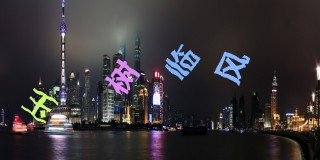临: (162, 42, 202, 82)
树: (103, 58, 141, 96)
玉: (18, 87, 61, 127)
风: (212, 51, 252, 87)
